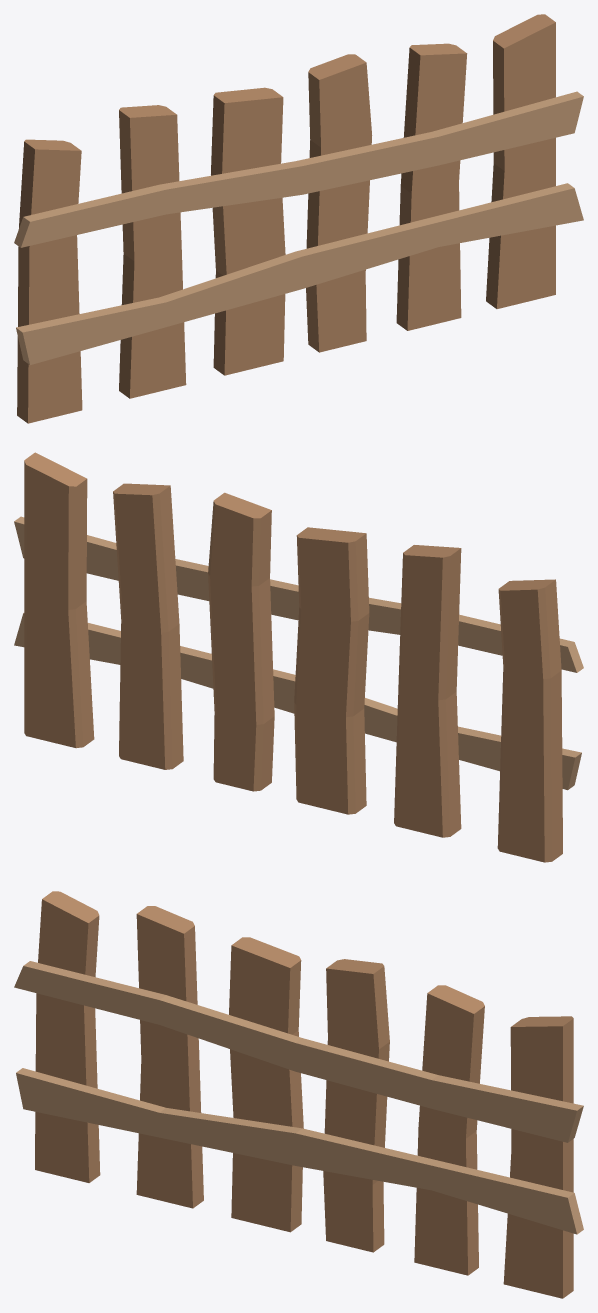
File: Fence_Long.fbx
3 views of the same model, one above another, from view 1: azimuth 30°, elevation 25°; view 2: azimuth 150°, elevation 25°; view 3: azimuth 330°, elevation 25° (orthographic).
Visible parts, largest first — view 1: Fence_Long; view 2: Fence_Long; view 3: Fence_Long.
Boxes of the visible parts, x1=… form: Fence_Long: x1=14, y1=14, x2=583, y2=423; Fence_Long: x1=14, y1=452, x2=583, y2=862; Fence_Long: x1=14, y1=891, x2=583, y2=1298.
Bounding box in the file's own units: 2.38 × 0.15 × 1.13.
